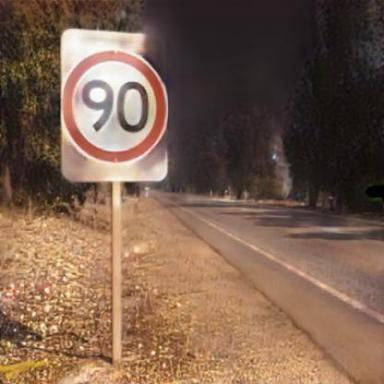Speed_limit_90: (63, 51, 165, 161)
